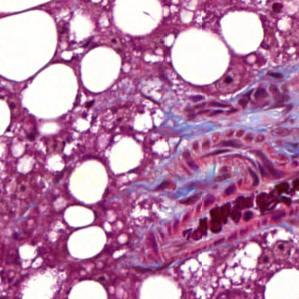steatosis: (170, 25, 229, 87), (79, 43, 125, 94), (67, 160, 111, 203)
